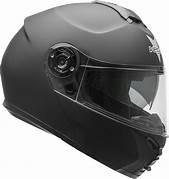Helmet: (2, 2, 165, 178)
